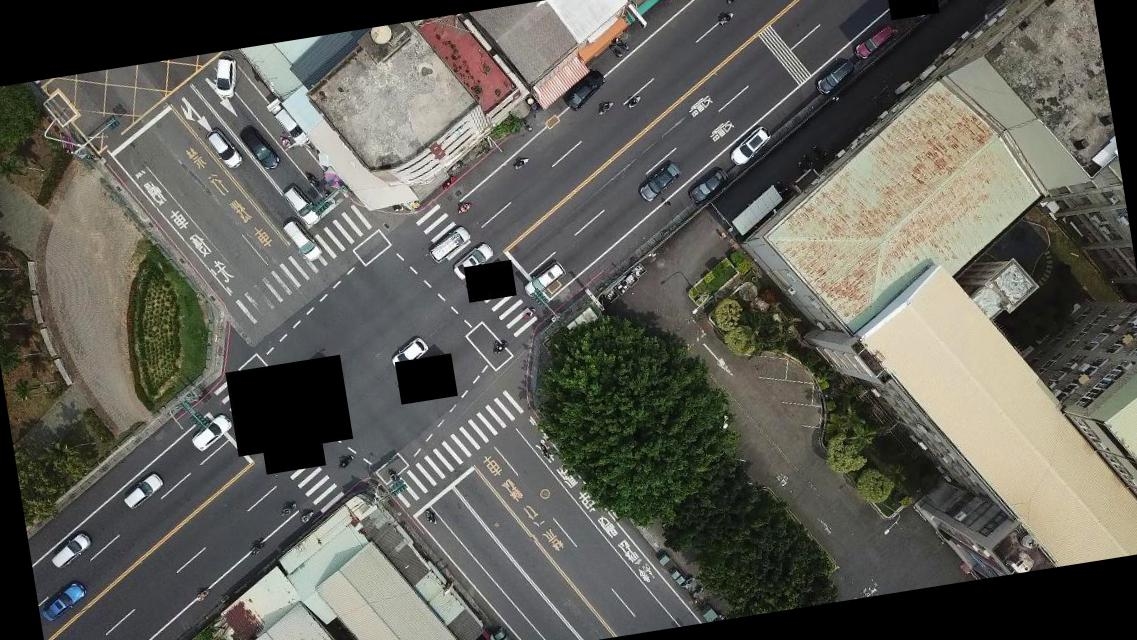vehicle: (264, 93, 310, 151), (238, 120, 282, 174), (558, 66, 608, 112), (38, 580, 90, 624), (725, 124, 774, 168), (634, 160, 684, 203), (281, 215, 324, 265), (188, 410, 236, 453), (280, 180, 322, 229), (423, 224, 473, 264), (448, 240, 498, 280), (119, 470, 167, 510), (520, 260, 568, 300), (684, 166, 731, 206), (46, 531, 94, 570), (205, 124, 244, 172), (810, 58, 858, 96), (849, 23, 896, 61), (388, 336, 432, 372), (210, 54, 242, 100)
